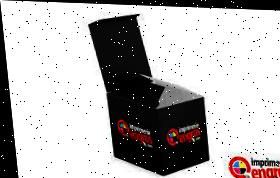cube: (101, 80, 210, 175)
